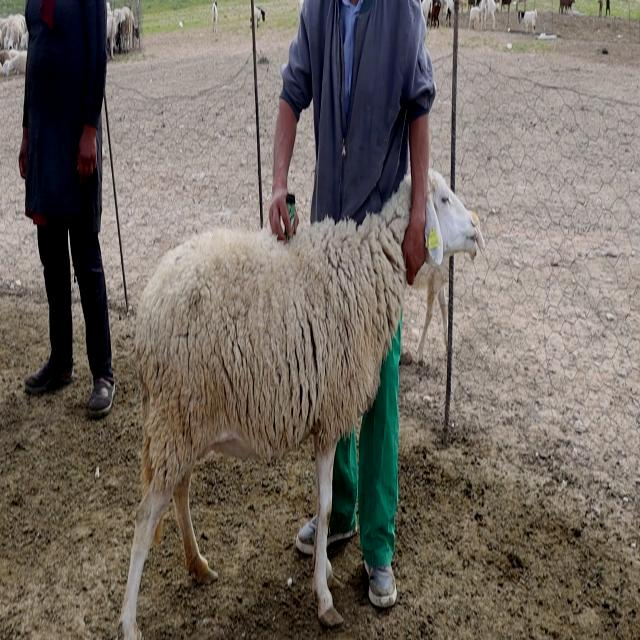Score_4: (120, 175, 411, 639)
